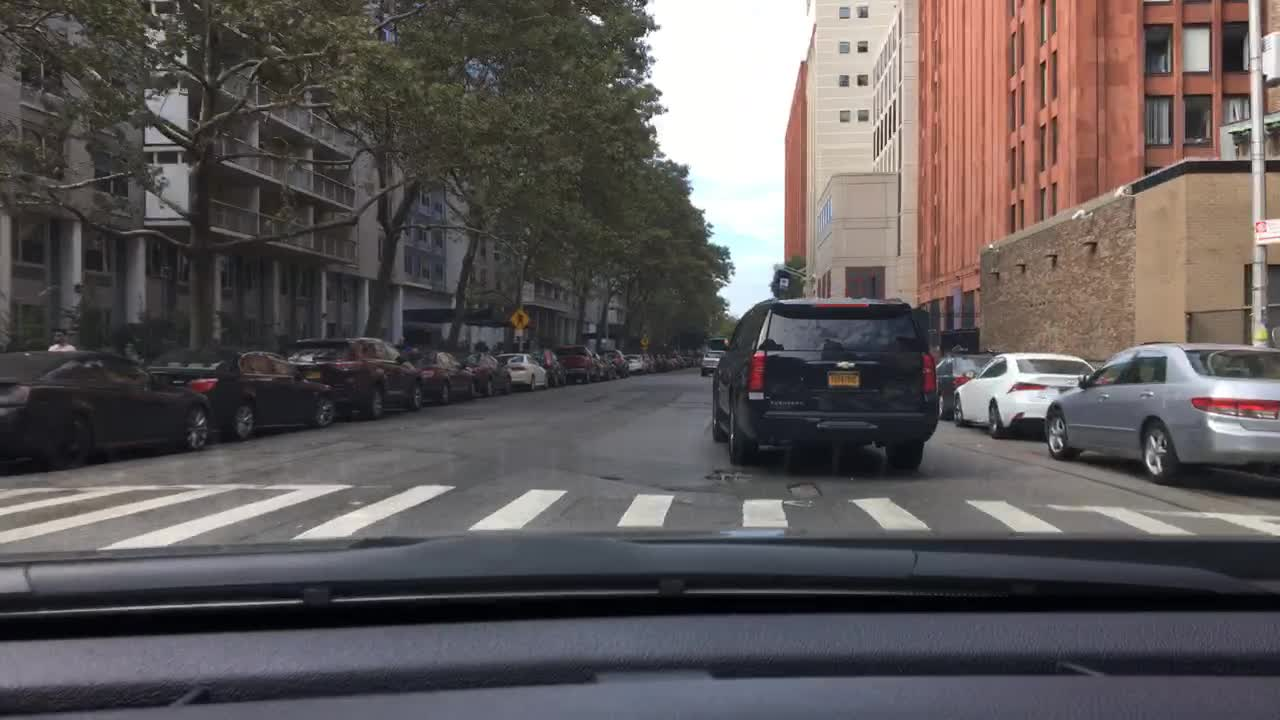car: (701, 293, 939, 469), (1041, 341, 1279, 486), (0, 347, 214, 476), (147, 341, 339, 444), (283, 336, 422, 427), (951, 353, 1092, 442), (405, 341, 476, 408), (935, 351, 992, 422), (460, 347, 513, 398), (492, 347, 548, 391), (555, 342, 600, 383), (533, 346, 567, 388), (698, 338, 730, 376), (604, 347, 627, 381), (593, 351, 616, 385), (624, 351, 644, 376), (639, 353, 658, 374), (648, 353, 665, 373), (658, 349, 673, 371), (668, 349, 683, 368), (692, 347, 705, 368), (680, 347, 692, 368)
person: (44, 324, 71, 354), (118, 337, 147, 361)
traffic sign: (1254, 216, 1279, 245), (508, 305, 530, 334), (638, 332, 648, 347)
